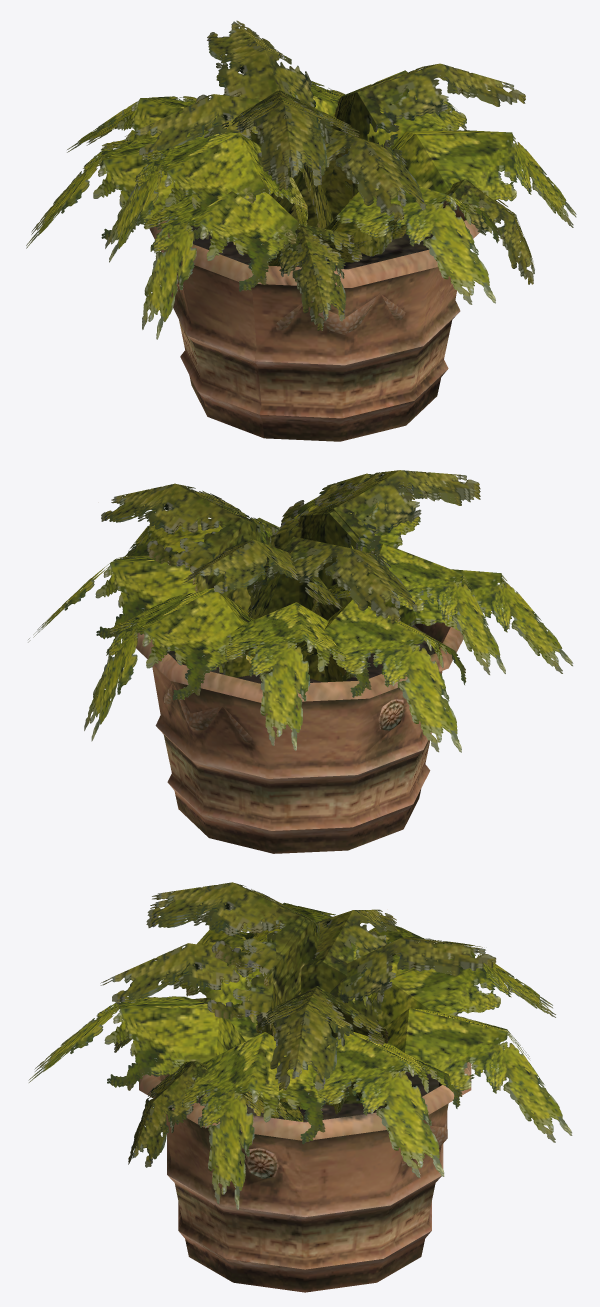
The model's file is pot_plant_small01.dae.
3 renders of one model, top to bottom at view 1: azimuth 30°, elevation 25°; view 2: azimuth 150°, elevation 25°; view 3: azimuth 270°, elevation 25°, orthographic. The views are drawn at different scales.
Visible parts, largest first — view 1: Scene_Root; view 2: Scene_Root; view 3: Scene_Root.
Part boxes in pixels (x1,y1,x2,y2): Scene_Root: (26, 20, 576, 441); Scene_Root: (28, 470, 573, 853); Scene_Root: (28, 882, 572, 1292).
Size of the model in its own units: 0.8846 by 0.9235 by 0.5815.
